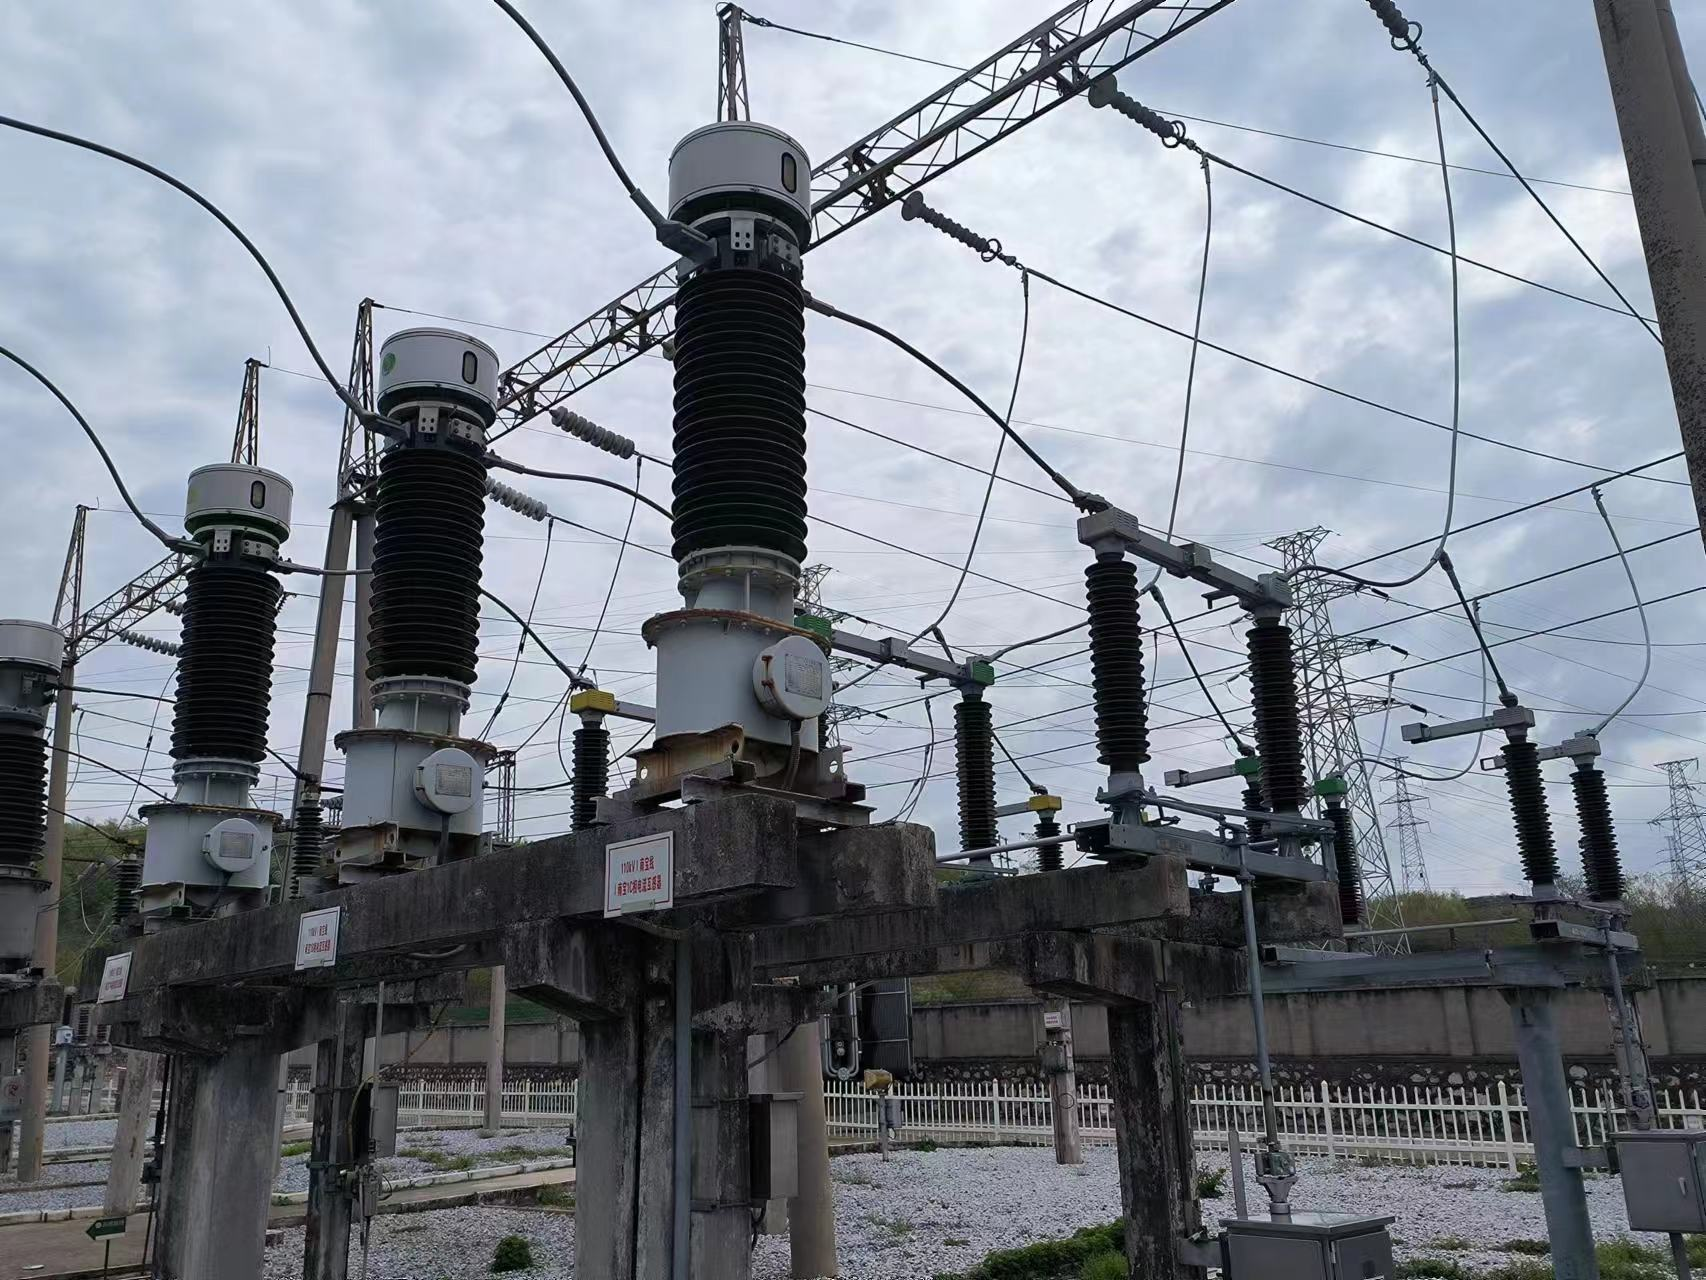Current transformer: (647, 122, 839, 753), (333, 315, 500, 848), (133, 454, 296, 894)
disconnecting link: (1059, 485, 1312, 844)
